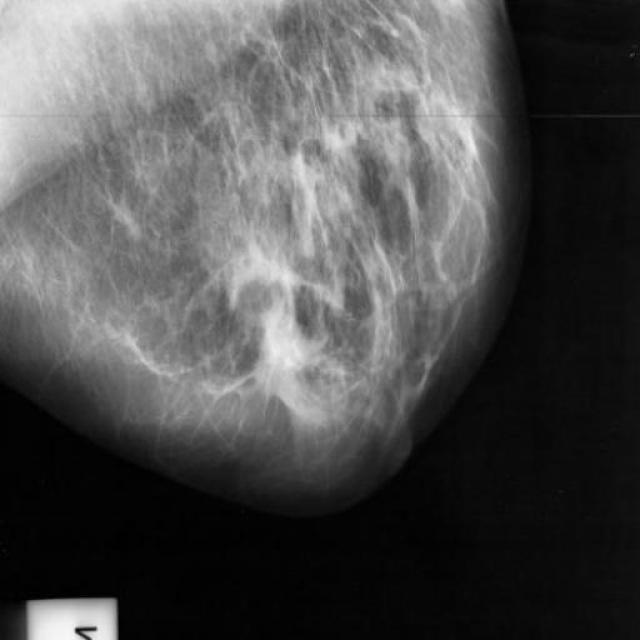cancer: (240, 333, 292, 403)
